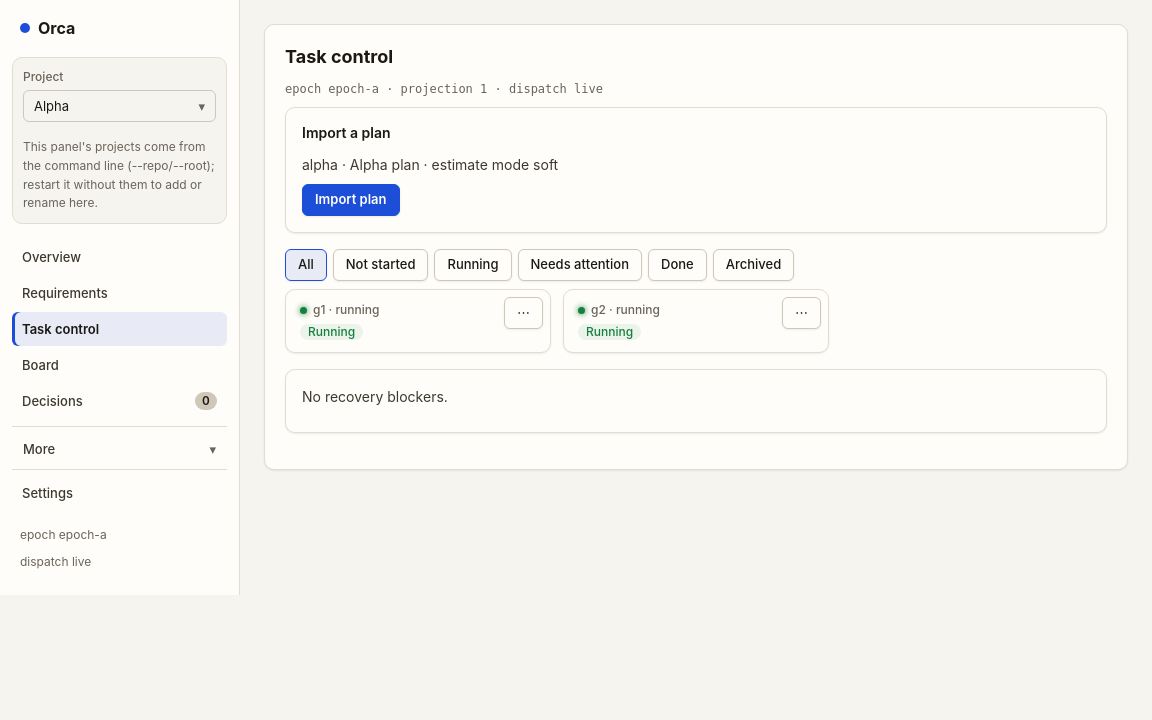
it: an import's refusal stays in the import form (spec §2.2(d)) › replaces an unknown import's notice with the refusal its lookup finds, the plan's problems listed
This screenshot has width=1152, height=720.
Click the button "Import plan": [351, 200] box 302,184 -> 400,216
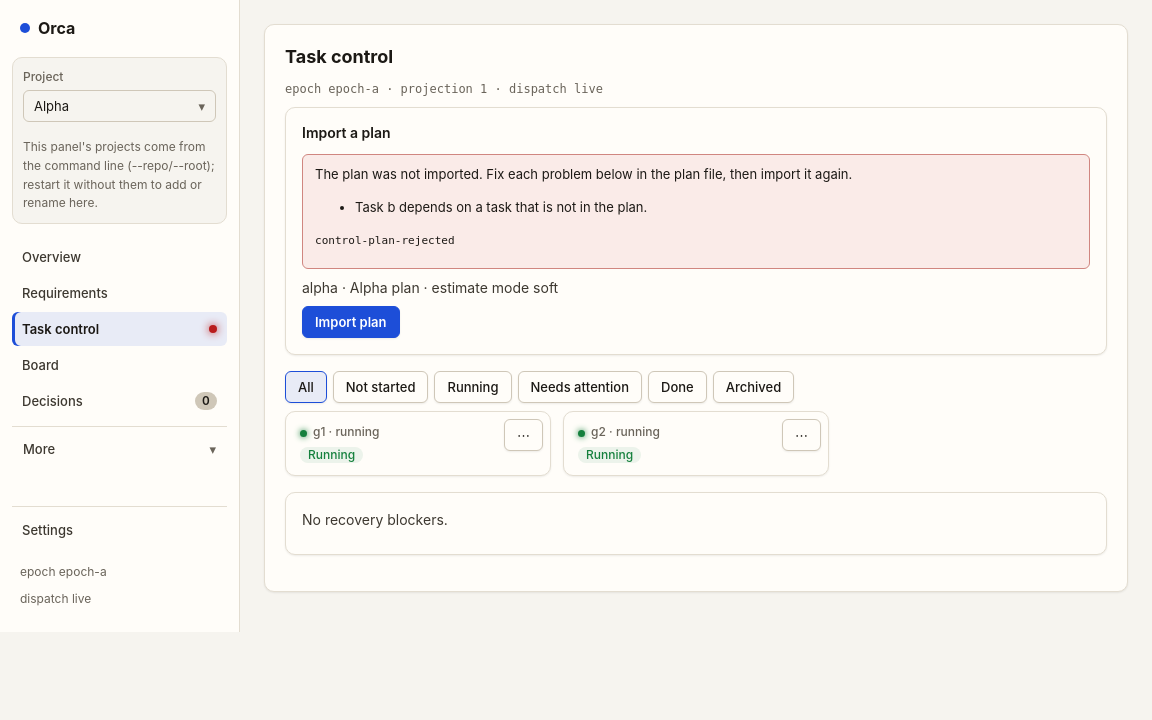
Expected: the text "control-plan-rejected" is shown, 315,234 -> 455,247
Expected: the list items read "Task b depends on a task that is not in the plan.", in this order, 355,199 -> 647,215
